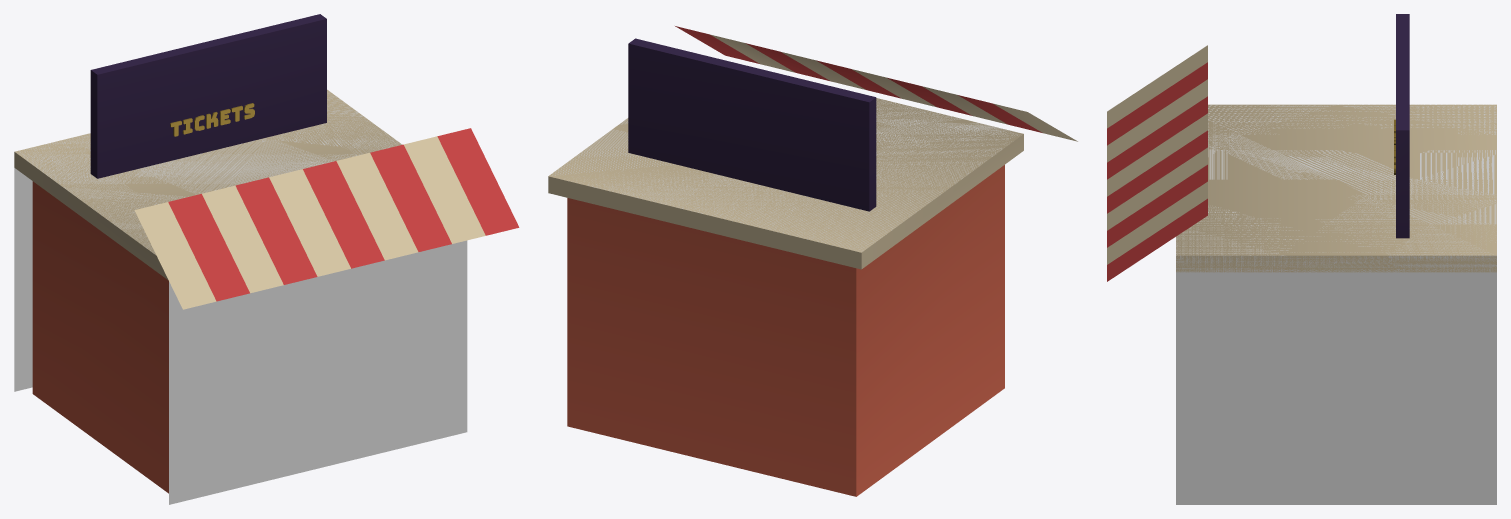
The model's file is ticket_booth.glb.
3 renders of one model, left to right at view 1: azimuth 30°, elevation 25°; view 2: azimuth 150°, elevation 25°; view 3: azimuth 270°, elevation 25°, orthographic. The views are drawn at different scales.
Visible parts, largest first — view 1: ticket_booth, COL_0; view 2: ticket_booth, COL_0; view 3: COL_0, ticket_booth.
Boxes of the visible parts, x1,y1,x2,y2 form: ticket_booth: (14, 14, 519, 493); COL_0: (14, 91, 467, 504); ticket_booth: (548, 26, 1077, 496); COL_0: (552, 99, 1017, 251); COL_0: (1176, 104, 1496, 504); ticket_booth: (1107, 14, 1496, 281).
Bounding box in the file's own units: 4.4 × 4.3 × 4.25.
